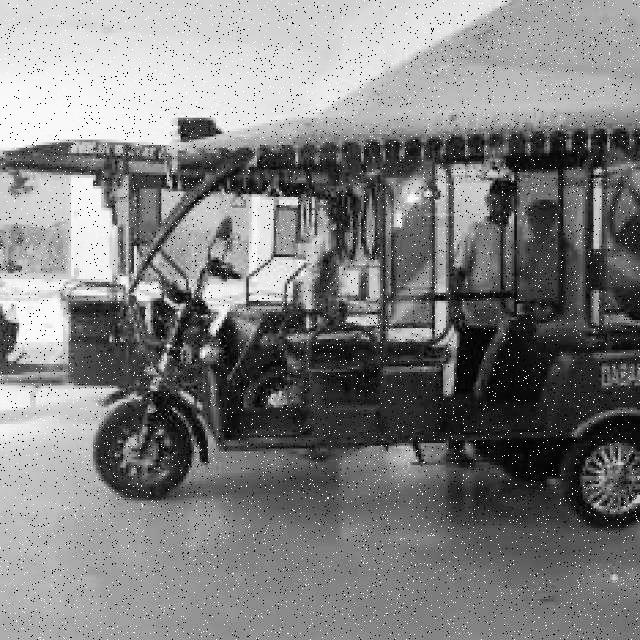Toto: (104, 107, 640, 520), (0, 131, 150, 404)
